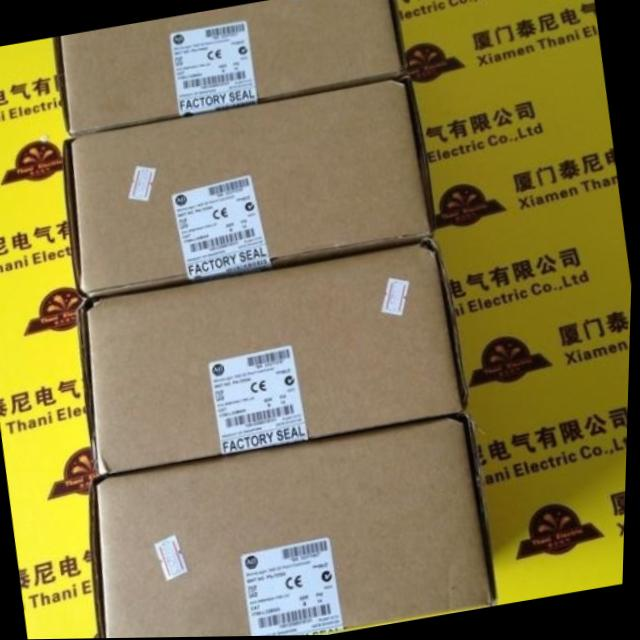box: (77, 239, 472, 479), (91, 416, 500, 639), (63, 76, 437, 300), (54, 0, 411, 137)
